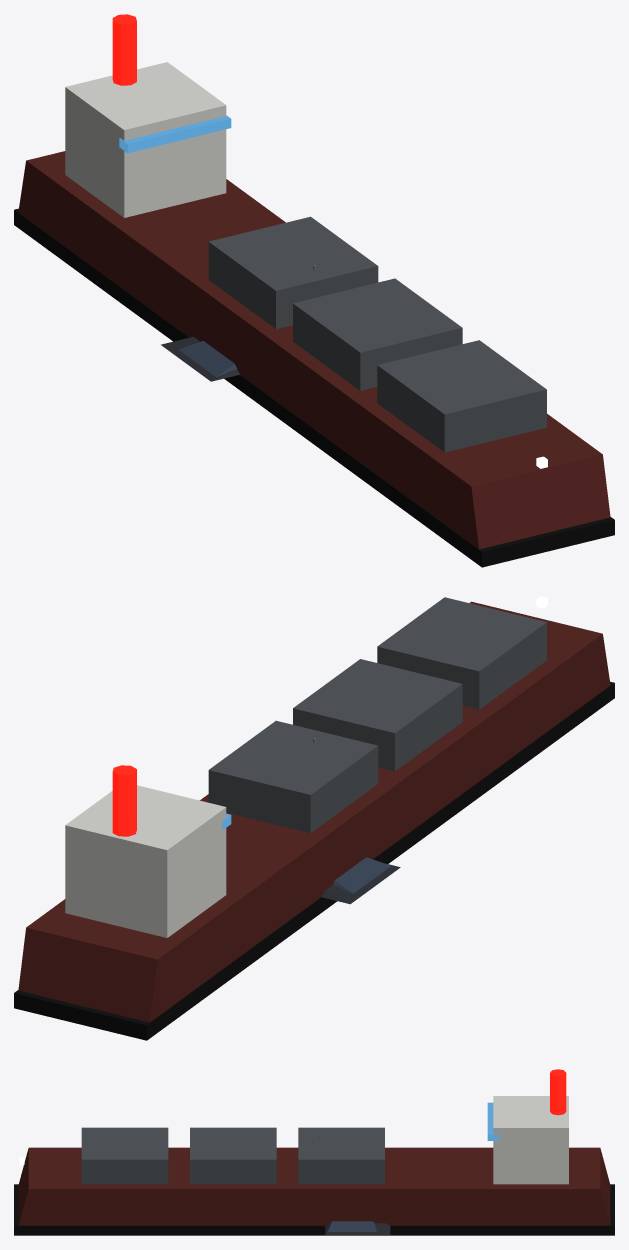
File: units.glb
3 renders of one model, top to bottom at view 1: azimuth 30°, elevation 25°; view 2: azimuth 150°, elevation 25°; view 3: azimuth 270°, elevation 25°, orthographic. The views are drawn at different scales.
Parts seen in each view (by area): view 1: U_ship, U_superx, U_superx2; view 2: U_ship, U_superx, U_superx2; view 3: U_ship, U_superx, U_superx2.
Part boxes in pixels (<box>): U_ship: <box>14,14,614,567</box>; U_superx: <box>178,341,236,377</box>; U_superx2: <box>161,336,239,381</box>; U_ship: <box>14,596,614,1040</box>; U_superx: <box>333,857,390,893</box>; U_superx2: <box>321,863,400,904</box>; U_ship: <box>14,1069,614,1235</box>; U_superx: <box>328,1221,376,1231</box>; U_superx2: <box>325,1223,390,1234</box>.
Bounding box in the file's own units: 26 × 31.8 × 111.
